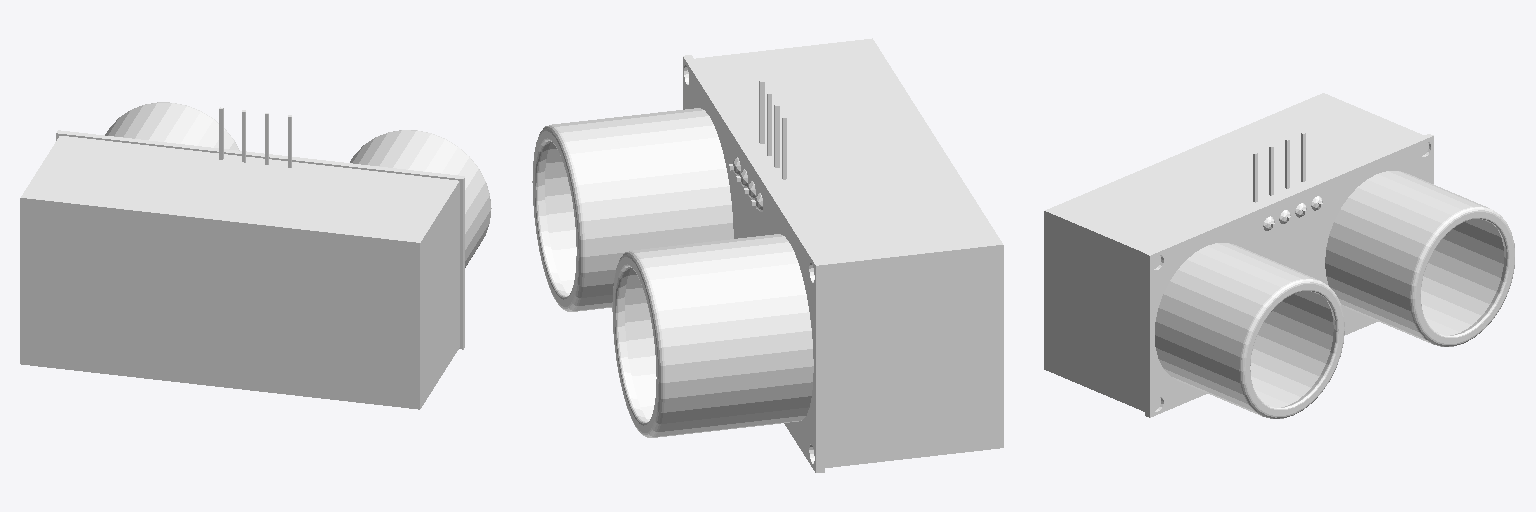
URDF robot description (panda):
<?xml version="1.0" encoding="utf-8"?>
<!-- =================================================================================== -->
<!-- |    This document was autogenerated by xacro from panda_arm_hand.urdf.xacro      | -->
<!-- |    EDITING THIS FILE BY HAND IS NOT RECOMMENDED                                 | -->
<!-- =================================================================================== -->
<robot name="panda">
  <link name="world"/>
  <joint name="panda_joint_world" type="fixed">
    <parent link="world"/>
    <child link="panda_link0"/>
    <origin rpy="0 0 0" xyz="0 0 0"/>
  </joint>
  <gazebo>
    <plugin filename="libgazebo_ros_control.so" name="gazebo_ros_control">
      <robotNamespace>/</robotNamespace>
    </plugin>
  </gazebo>
  <gazebo reference="panda_link0"/>
  <gazebo reference="panda_link1"/>
  <gazebo reference="panda_link2"/>
  <gazebo reference="panda_link3"/>
  <gazebo reference="panda_link4"/>
  <gazebo reference="panda_link5"/>
  <gazebo reference="panda_link6"/>
  <gazebo reference="panda_link7"/>
  <gazebo reference="panda_link8"/>
  <transmission name="panda_joint1_trans">
    <type>transmission_interface/SimpleTransmission</type>
    <joint name="panda_joint1">
      <hardwareInterface>hardware_interface/PositionJointInterface</hardwareInterface>
    </joint>
    <actuator name="panda_joint1_motor">
      <mechanicalReduction>1</mechanicalReduction>
    </actuator>
  </transmission>
  <transmission name="panda_joint2_trans">
    <type>transmission_interface/SimpleTransmission</type>
    <joint name="panda_joint2">
      <hardwareInterface>hardware_interface/PositionJointInterface</hardwareInterface>
    </joint>
    <actuator name="panda_joint2_motor">
      <mechanicalReduction>1</mechanicalReduction>
    </actuator>
  </transmission>
  <transmission name="panda_joint3_trans">
    <type>transmission_interface/SimpleTransmission</type>
    <joint name="panda_joint3">
      <hardwareInterface>hardware_interface/PositionJointInterface</hardwareInterface>
    </joint>
    <actuator name="panda_joint3_motor">
      <mechanicalReduction>1</mechanicalReduction>
    </actuator>
  </transmission>
  <transmission name="panda_joint4_trans">
    <type>transmission_interface/SimpleTransmission</type>
    <joint name="panda_joint4">
      <hardwareInterface>hardware_interface/PositionJointInterface</hardwareInterface>
    </joint>
    <actuator name="panda_joint4_motor">
      <mechanicalReduction>1</mechanicalReduction>
    </actuator>
  </transmission>
  <transmission name="panda_joint5_trans">
    <type>transmission_interface/SimpleTransmission</type>
    <joint name="panda_joint5">
      <hardwareInterface>hardware_interface/PositionJointInterface</hardwareInterface>
    </joint>
    <actuator name="panda_joint5_motor">
      <mechanicalReduction>1</mechanicalReduction>
    </actuator>
  </transmission>
  <transmission name="panda_joint6_trans">
    <type>transmission_interface/SimpleTransmission</type>
    <joint name="panda_joint6">
      <hardwareInterface>hardware_interface/PositionJointInterface</hardwareInterface>
    </joint>
    <actuator name="panda_joint6_motor">
      <mechanicalReduction>1</mechanicalReduction>
    </actuator>
  </transmission>
  <transmission name="panda_joint7_trans">
    <type>transmission_interface/SimpleTransmission</type>
    <joint name="panda_joint7">
      <hardwareInterface>hardware_interface/PositionJointInterface</hardwareInterface>
    </joint>
    <actuator name="panda_joint7_motor">
      <mechanicalReduction>1</mechanicalReduction>
    </actuator>
  </transmission>
  <link name="panda_link0">
    <inertial>
      <mass value="2.92"/>
      <origin rpy="0 0 0" xyz="-0.025566 -2.88e-05 0.057332"/>
      <inertia ixx="0.00782229414331" ixy="-1.56191622996e-05" ixz="-0.00126005738123" iyy="0.0109027971813" iyz="1.08233858202e-05" izz="0.0102355503949"/>
    </inertial>
    <visual>
      <origin rpy="0 0 0" xyz="0 0 0"/>
      <geometry>
        <mesh filename="package://panda/meshes/visual/link0.dae"/>
      </geometry>
      <material name="">
        <color rgba="1 1 1 1"/>
      </material>
    </visual>
    <collision>
      <origin rpy="0 0 0" xyz="0 0 0"/>
      <geometry>
        <mesh filename="package://panda/meshes/collision/link0.stl"/>
      </geometry>
    </collision>
  </link>
  <link name="panda_link1">
    <inertial>
      <mass value="2.74"/>
      <origin rpy="0 0 0" xyz="0 -0.0324958 -0.0675818"/>
      <inertia ixx="0.0180416958283" ixy="0.0" ixz="0.0" iyy="0.0159136071891" iyz="0.0046758424612" izz="0.00620690827127"/>
    </inertial>
    <visual>
      <origin rpy="0 0 0" xyz="0 0 0"/>
      <geometry>
        <mesh filename="package://panda/meshes/visual/link1.dae"/>
      </geometry>
      <material name="">
        <color rgba="1 1 1 1"/>
      </material>
    </visual>
    <collision>
      <origin rpy="0 0 0" xyz="0 0 0"/>
      <geometry>
        <mesh filename="package://panda/meshes/collision/link1.stl"/>
      </geometry>
    </collision>
  </link>
  <joint name="panda_joint1" type="revolute">
    <safety_controller k_position="100.0" k_velocity="40.0" soft_lower_limit="-2.8973" soft_upper_limit="2.8973"/>
    <origin rpy="0 0 0" xyz="0 0 0.333"/>
    <parent link="panda_link0"/>
    <child link="panda_link1"/>
    <axis xyz="0 0 1"/>
    <limit effort="87" lower="-2.8973" upper="2.8973" velocity="2.1750"/>
  </joint>
  <link name="panda_link2">
    <inertial>
      <mass value="2.74"/>
      <origin rpy="0 0 0" xyz="0 -0.06861 0.0322285"/>
      <inertia ixx="0.0182856182281" ixy="0.0" ixz="0.0" iyy="0.00621358421175" iyz="-0.00472844221905" izz="0.0161514346309"/>
    </inertial>
    <visual>
      <origin rpy="0 0 0" xyz="0 0 0"/>
      <geometry>
        <mesh filename="package://panda/meshes/visual/link2.dae"/>
      </geometry>
      <material name="">
        <color rgba="1 1 1 1"/>
      </material>
    </visual>
    <collision>
      <origin rpy="0 0 0" xyz="0 0 0"/>
      <geometry>
        <mesh filename="package://panda/meshes/collision/link2.stl"/>
      </geometry>
    </collision>
  </link>
  <joint name="panda_joint2" type="revolute">
    <safety_controller k_position="100.0" k_velocity="40.0" soft_lower_limit="-1.7628" soft_upper_limit="1.7628"/>
    <origin rpy="-1.57079632679 0 0" xyz="0 0 0"/>
    <parent link="panda_link1"/>
    <child link="panda_link2"/>
    <axis xyz="0 0 1"/>
    <limit effort="87" lower="-1.7628" upper="1.7628" velocity="2.1750"/>
  </joint>
  <link name="panda_link3">
    <inertial>
      <mass value="2.38"/>
      <origin rpy="0 0 0" xyz="0.0469893 0.0316374 -0.031704"/>
      <inertia ixx="0.00771376630908" ixy="-0.00248490625138" ixz="-0.00332147581033" iyy="0.00989108008727" iyz="-0.00217796151484" izz="0.00811723558464"/>
    </inertial>
    <visual>
      <origin rpy="0 0 0" xyz="0 0 0"/>
      <geometry>
        <mesh filename="package://panda/meshes/visual/link3.dae"/>
      </geometry>
      <material name="">
        <color rgba="1 1 1 1"/>
      </material>
    </visual>
    <collision>
      <origin rpy="0 0 0" xyz="0 0 0"/>
      <geometry>
        <mesh filename="package://panda/meshes/collision/link3.stl"/>
      </geometry>
    </collision>
  </link>
  <joint name="panda_joint3" type="revolute">
    <safety_controller k_position="100.0" k_velocity="40.0" soft_lower_limit="-2.8973" soft_upper_limit="2.8973"/>
    <origin rpy="1.57079632679 0 0" xyz="0 -0.316 0"/>
    <parent link="panda_link2"/>
    <child link="panda_link3"/>
    <axis xyz="0 0 1"/>
    <limit effort="87" lower="-2.8973" upper="2.8973" velocity="2.1750"/>
  </joint>
  <link name="panda_link4">
    <inertial>
      <mass value="2.38"/>
      <origin rpy="0 0 0" xyz="-0.0360446 0.0336853 0.031882"/>
      <inertia ixx="0.00799663881132" ixy="0.00347095570217" ixz="-0.00241222942995" iyy="0.00825390705278" iyz="0.00235774044121" izz="0.0102515004345"/>
    </inertial>
    <visual>
      <origin rpy="0 0 0" xyz="0 0 0"/>
      <geometry>
        <mesh filename="package://panda/meshes/visual/link4.dae"/>
      </geometry>
      <material name="">
        <color rgba="1 1 1 1"/>
      </material>
    </visual>
    <collision>
      <origin rpy="0 0 0" xyz="0 0 0"/>
      <geometry>
        <mesh filename="package://panda/meshes/collision/link4.stl"/>
      </geometry>
    </collision>
  </link>
  <joint name="panda_joint4" type="revolute">
    <safety_controller k_position="100.0" k_velocity="40.0" soft_lower_limit="-3.0718" soft_upper_limit="0.0698"/>
    <!-- soft_upper_limitr should be -0.0698, but that brakes simulation when initial position for this joint is 0.0 -->
    <origin rpy="1.57079632679 0 0" xyz="0.0825 0 0"/>
    <parent link="panda_link3"/>
    <child link="panda_link4"/>
    <axis xyz="0 0 1"/>
    <limit effort="87" lower="-3.0718" upper="0.0698" velocity="2.1750"/>
    <!-- upper should be -0.0698, but that brakes simulation when initial position for this joint is 0.0 -->
  </joint>
  <link name="panda_link5">
    <inertial>
      <mass value="2.74"/>
      <origin rpy="0 0 0" xyz="0 0.0610427 -0.104176"/>
      <inertia ixx="0.030371374513" ixy="6.50283587108e-07" ixz="-1.05129179916e-05" iyy="0.0288752887402" iyz="-0.00775653445787" izz="0.00444134056164"/>
    </inertial>
    <visual>
      <origin rpy="0 0 0" xyz="0 0 0"/>
      <geometry>
        <mesh filename="package://panda/meshes/visual/link5.dae"/>
      </geometry>
      <material name="">
        <color rgba="1 1 1 1"/>
      </material>
    </visual>
    <collision>
      <origin rpy="0 0 0" xyz="0 0 0"/>
      <geometry>
        <mesh filename="package://panda/meshes/collision/link5.stl"/>
      </geometry>
    </collision>
  </link>
  <joint name="panda_joint5" type="revolute">
    <safety_controller k_position="100.0" k_velocity="40.0" soft_lower_limit="-2.8973" soft_upper_limit="2.8973"/>
    <origin rpy="-1.57079632679 0 0" xyz="-0.0825 0.384 0"/>
    <parent link="panda_link4"/>
    <child link="panda_link5"/>
    <axis xyz="0 0 1"/>
    <limit effort="12" lower="-2.8973" upper="2.8973" velocity="2.6100"/>
  </joint>
  <link name="panda_link6">
    <inertial>
      <mass value="1.55"/>
      <origin rpy="0 0 0" xyz="0.0510509 0.009108 0.0106343"/>
      <inertia ixx="0.00303336450376" ixy="-0.000437276865508" ixz="0.000629257294877" iyy="0.00404479911567" iyz="0.000130472021025" izz="0.00558234286039"/>
    </inertial>
    <visual>
      <origin rpy="0 0 0" xyz="0 0 0"/>
      <geometry>
        <mesh filename="package://panda/meshes/visual/link6.dae"/>
      </geometry>
      <material name="">
        <color rgba="1 1 1 1"/>
      </material>
    </visual>
    <collision>
      <origin rpy="0 0 0" xyz="0 0 0"/>
      <geometry>
        <mesh filename="package://panda/meshes/collision/link6.stl"/>
      </geometry>
    </collision>
  </link>
  <joint name="panda_joint6" type="revolute">
    <safety_controller k_position="100.0" k_velocity="40.0" soft_lower_limit="-0.0175" soft_upper_limit="3.7525"/>
    <origin rpy="1.57079632679 0 0" xyz="0 0 0"/>
    <parent link="panda_link5"/>
    <child link="panda_link6"/>
    <axis xyz="0 0 1"/>
    <limit effort="12" lower="-0.0175" upper="3.7525" velocity="2.6100"/>
  </joint>
  <link name="panda_link7">
    <inertial>
      <mass value="0.54"/>
      <origin rpy="0 0 0" xyz="0.0109695 0.0107965 0.0650411"/>
      <inertia ixx="0.000888868887021" ixy="-0.00012239074652" ixz="3.98699829666e-05" iyy="0.000888001373233" iyz="-9.33825115206e-05" izz="0.0007176834609"/>
    </inertial>
    <visual>
      <origin rpy="0 0 0" xyz="0 0 0"/>
      <geometry>
        <mesh filename="package://panda/meshes/visual/link7.dae"/>
      </geometry>
      <material name="">
        <color rgba="1 1 1 1"/>
      </material>
    </visual>
    <collision>
      <origin rpy="0 0 0" xyz="0 0 0"/>
      <geometry>
        <mesh filename="package://panda/meshes/collision/link7.stl"/>
      </geometry>
    </collision>
  </link>
  <joint name="panda_joint7" type="revolute">
    <safety_controller k_position="100.0" k_velocity="40.0" soft_lower_limit="-2.8973" soft_upper_limit="2.8973"/>
    <origin rpy="1.57079632679 0 0" xyz="0.088 0 0"/>
    <parent link="panda_link6"/>
    <child link="panda_link7"/>
    <axis xyz="0 0 1"/>
    <limit effort="12" lower="-2.8973" upper="2.8973" velocity="2.6100"/>
  </joint>
  <link name="panda_link8"/>
  <joint name="panda_joint8" type="fixed">
    <origin rpy="0 0 0" xyz="0 0 0.107"/>
    <parent link="panda_link7"/>
    <child link="panda_link8"/>
    <axis xyz="0 0 0"/>
  </joint>
  <joint name="panda_hand_joint" type="fixed">
    <parent link="panda_link8"/>
    <child link="panda_hand"/>
    <origin rpy="0 0 -0.785398163397" xyz="0 0 0"/>
  </joint>
  <gazebo reference="panda_hand"/>
  <gazebo reference="panda_leftfinger"/>
  <gazebo reference="panda_rightfinger"/>
  <transmission name="panda_finger_joint1_trans">
    <type>transmission_interface/SimpleTransmission</type>
    <joint name="panda_finger_joint1">
      <hardwareInterface>hardware_interface/PositionJointInterface</hardwareInterface>
    </joint>
    <actuator name="panda_finger_joint1_motor">
      <mechanicalReduction>1</mechanicalReduction>
    </actuator>
  </transmission>
  <transmission name="panda_finger_joint2_trans">
    <type>transmission_interface/SimpleTransmission</type>
    <joint name="panda_finger_joint2">
      <hardwareInterface>hardware_interface/PositionJointInterface</hardwareInterface>
    </joint>
    <actuator name="panda_finger_joint2_motor">
      <mechanicalReduction>1</mechanicalReduction>
    </actuator>
  </transmission>
 <link name="panda_hand">
    <inertial>
      <mass value="0.73"/>
      <origin rpy="0 0 0" xyz="0 0.0015244 0.0275912"/>
      <inertia ixx="0.00278560230025" ixy="0.0" ixz="0.0" iyy="0.000400033405336" iyz="0.0" izz="0.00256378041832"/>
    </inertial>
    <visual>
      <origin rpy="0 0 0" xyz="0 0 0"/>
      <geometry>
        <mesh filename="package://panda/meshes/visual/hand.dae"/>
      </geometry>
      <material name="">
        <color rgba="1 1 1 1"/>
      </material>
    </visual>
    <collision>
      <origin rpy="0 0 0" xyz="0 0 0"/>
      <geometry>
        <mesh filename="package://panda/meshes/collision/hand.stl"/>
      </geometry>
    </collision>
  </link>
  <link name="panda_leftfinger">
    <inertial>
      <mass value="0.1"/>
      <origin rpy="0 0 0" xyz="0 0.0145644 0.0227941"/>
      <inertia ixx="3.01220925051e-05" ixy="0.0" ixz="0.0" iyy="2.95873808038e-05" iyz="0.0" izz="6.95125211657e-06"/>
    </inertial>
    <visual>
      <origin rpy="0 0 0" xyz="0 0 0"/>
      <geometry>
        <mesh filename="package://panda/meshes/visual/finger.dae"/>
      </geometry>
      <material name="">
        <color rgba="1 1 1 1"/>
      </material>
    </visual>
    <collision>
      <origin xyz="0 18.5e-3 11e-3" rpy="0 0 0" />
      <geometry>
        <box size="22e-3 15e-3 20e-3" />
      </geometry>
    </collision>
  </link>
  <link name="panda_rightfinger">
    <inertial>
      <mass value="0.1"/>
      <origin rpy="0 0 3.14159265359" xyz="0 0.0145644 0.0227941"/>
      <inertia ixx="3.01220925051e-05" ixy="0.0" ixz="0.0" iyy="2.95873808038e-05" iyz="0.0" izz="6.95125211657e-06"/>
    </inertial>
    <visual>
      <origin rpy="0 0 3.14159265359" xyz="0 0 0"/>
      <geometry>
        <mesh filename="package://panda/meshes/visual/finger.dae"/>
      </geometry>
      <material name="">
        <color rgba="1 1 1 1"/>
      </material>
    </visual>
    <collision>
        <origin xyz="0 -18.5e-3 11e-3" rpy="0 0 0" />
        <geometry>
          <box size="22e-3 15e-3 20e-3" />
        </geometry>
    </collision>
  </link>
  <joint name="panda_finger_joint1" type="prismatic">
    <parent link="panda_hand"/>
    <child link="panda_leftfinger"/>
    <origin rpy="0 0 0" xyz="0 0 0.0584"/>
    <axis xyz="0 1 0"/>
    <limit effort="20" lower="-0.001" upper="0.04" velocity="0.3"/>
  </joint>
  <joint name="panda_finger_joint2" type="prismatic">
    <parent link="panda_hand"/>
    <child link="panda_rightfinger"/>
    <origin rpy="0 0 0" xyz="0 0 0.0584"/>
    <axis xyz="0 -1 0"/>
    <limit effort="20" lower="-0.001" upper="0.04" velocity="0.3"/>
  </joint>
  <link name="panda_finger_tip"/>
  <joint name="panda_finger_tip_joint" type="fixed">
    <parent link="panda_hand"/>
    <child link="panda_finger_tip"/>
    <origin rpy="0 0 0" xyz="0 0 0.1"/>
    <axis xyz="0 0 0"/>
  </joint>

  <link name="tool_tip">
    <visual>
        <origin rpy="0 0 0" xyz="0 0 0"/>
        <geometry>
          <mesh filename="package://panda/meshes/visual/scanner.dae" scale="0.03 0.03 0.03"/>
        </geometry>
        <material name="">
          <color rgba="1 1 1 1"/>
        </material>
      </visual>
  </link>
  <joint name="tool_tip_joint" type="fixed">
    <parent link="panda_hand"/>
    <child link="tool_tip"/>
    <origin rpy="0 0 1.570795" xyz="0.02 0 0.1"/>
  </joint>  
</robot>

--- What the picture shows (computed from the rendered views, not written in the file) ---
The picture shows the robot from 3 angles, left to right: view 1: azimuth 30°, elevation 25°; view 2: azimuth 150°, elevation 25°; view 3: azimuth 270°, elevation 25°; orthographic projection.
Model panda with 15 links and 14 joints (7 revolute, 2 prismatic, 5 fixed), rooted at world, posed every joint at zero.
Links seen in each view (by area): view 1: tool_tip; view 2: tool_tip; view 3: tool_tip.
Link boxes in pixels (x1,y1,x2,y2): tool_tip: (20, 102, 491, 409); tool_tip: (532, 38, 1003, 472); tool_tip: (1044, 93, 1514, 418).
Size in the robot's own frame: 0.0967 by 0.0967 by 0.0473 metres.
1 mesh visuals loaded from 11 distinct referenced files (1 Collada DAE); not drawn: 11 (reference not matched to a file when rendering).